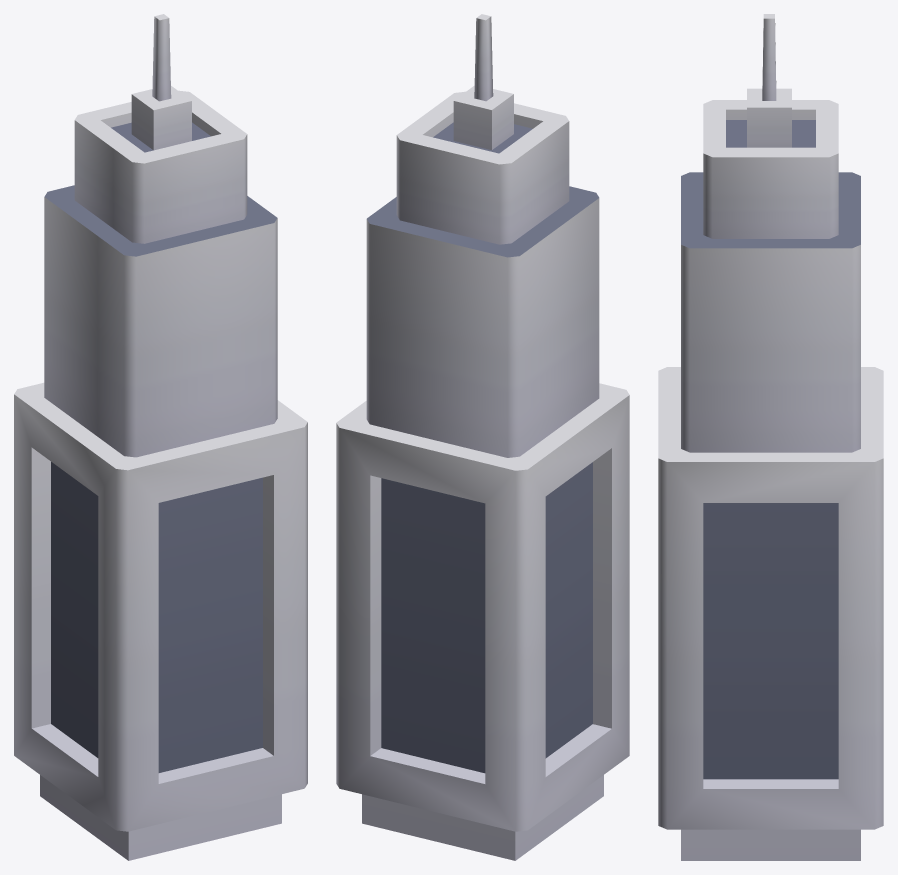
Rendered from low-detail-building-m.glb.
3 views of the same model, side by side, from view 1: azimuth 30°, elevation 25°; view 2: azimuth 150°, elevation 25°; view 3: azimuth 270°, elevation 25° (orthographic).
Parts seen in each view (by area): view 1: low-detail-building-m; view 2: low-detail-building-m; view 3: low-detail-building-m.
Part boxes in pixels (x1,y1,x2,y2): low-detail-building-m: (14, 14, 307, 860); low-detail-building-m: (336, 14, 629, 860); low-detail-building-m: (658, 14, 883, 860).
Size of the model in its own units: 0.5 by 1.98 by 0.5.
1 material, 1 textured.
